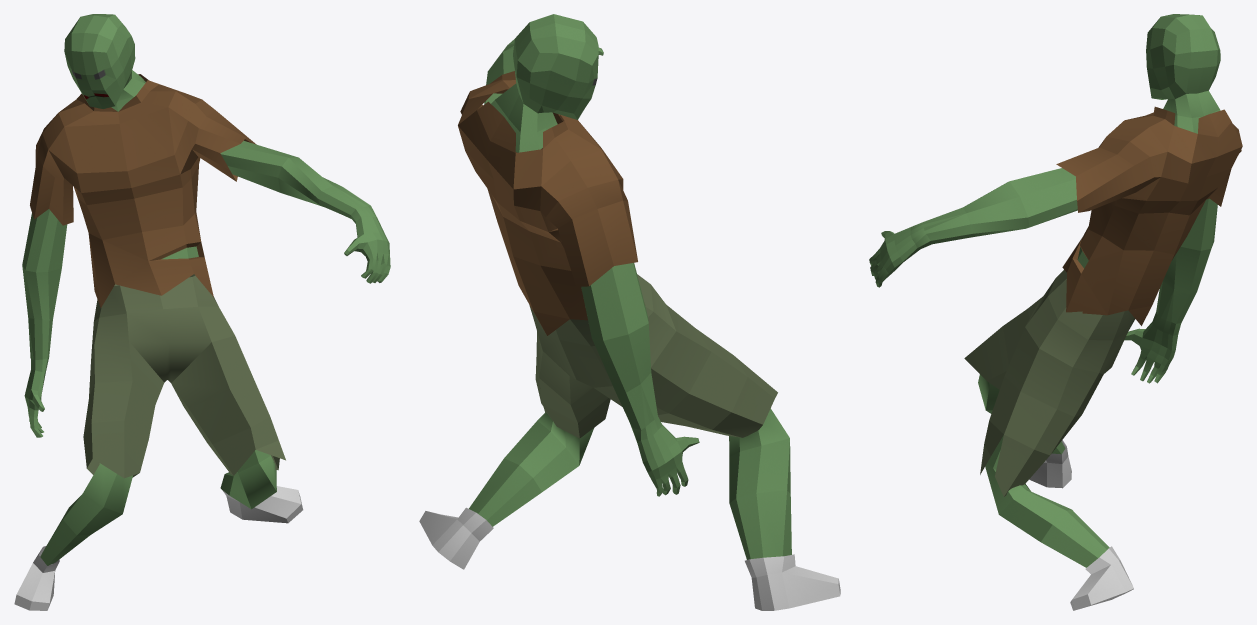
The model's file is ZombieDead(37).obj.
3 views of the same model, side by side, from view 1: azimuth 30°, elevation 25°; view 2: azimuth 150°, elevation 25°; view 3: azimuth 270°, elevation 25° (orthographic). The views are drawn at different scales.
Parts seen in each view (by area): view 1: Object001; view 2: Object001; view 3: Object001.
Boxes of the visible parts, x1,y1,x2,y2 form: Object001: (14,14,390,610); Object001: (419,14,840,610); Object001: (869,14,1242,610).
Size of the model in its own units: 33.36 by 50.76 by 32.47.
